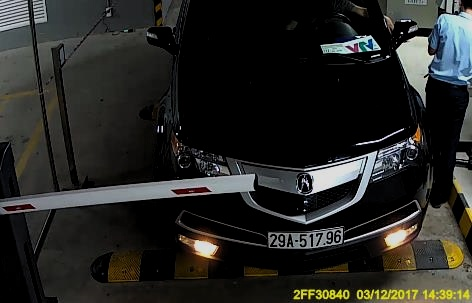plate: (264, 223, 344, 248)
